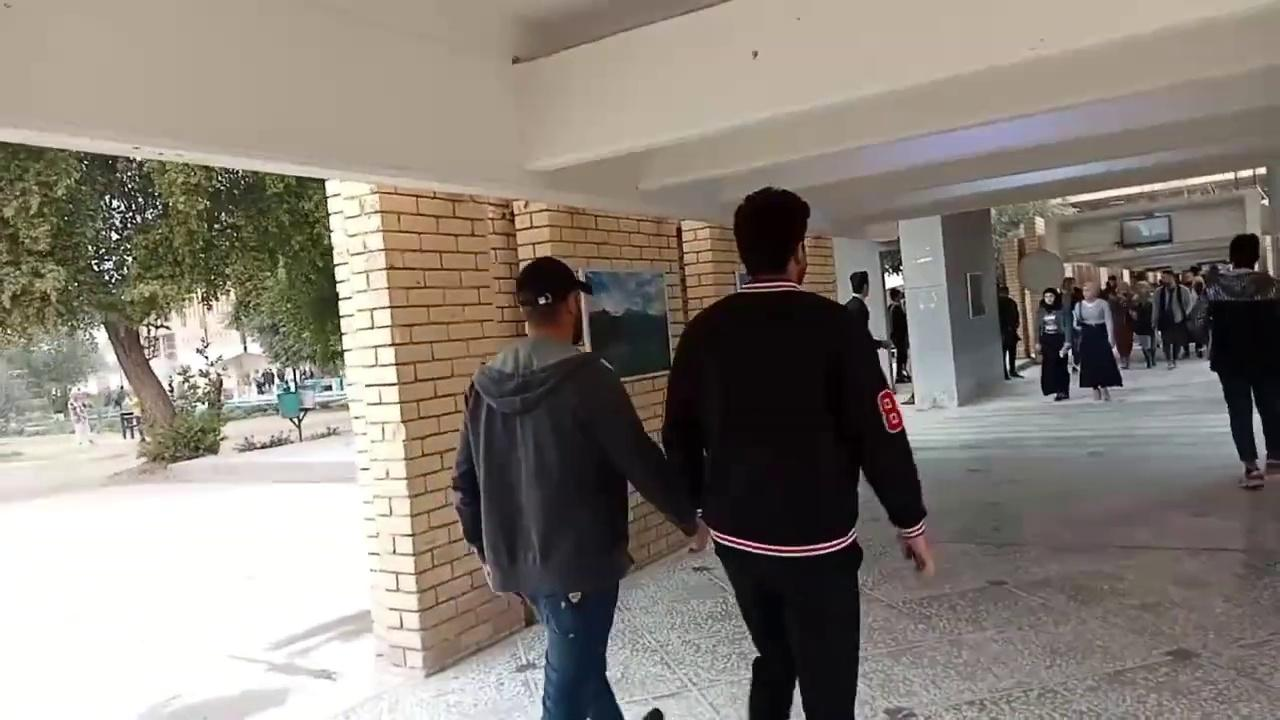fountain: (203, 382, 330, 402)
person: (660, 185, 935, 719), (450, 255, 709, 719), (1202, 232, 1279, 488), (1072, 286, 1134, 408), (1026, 288, 1078, 409), (997, 284, 1024, 379), (887, 286, 910, 382), (843, 270, 870, 329), (67, 386, 94, 445), (113, 385, 125, 410)
tree: (0, 139, 343, 465)
